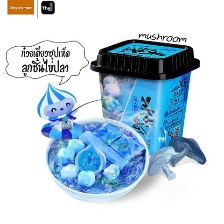paper_cup: (84, 34, 203, 167)
